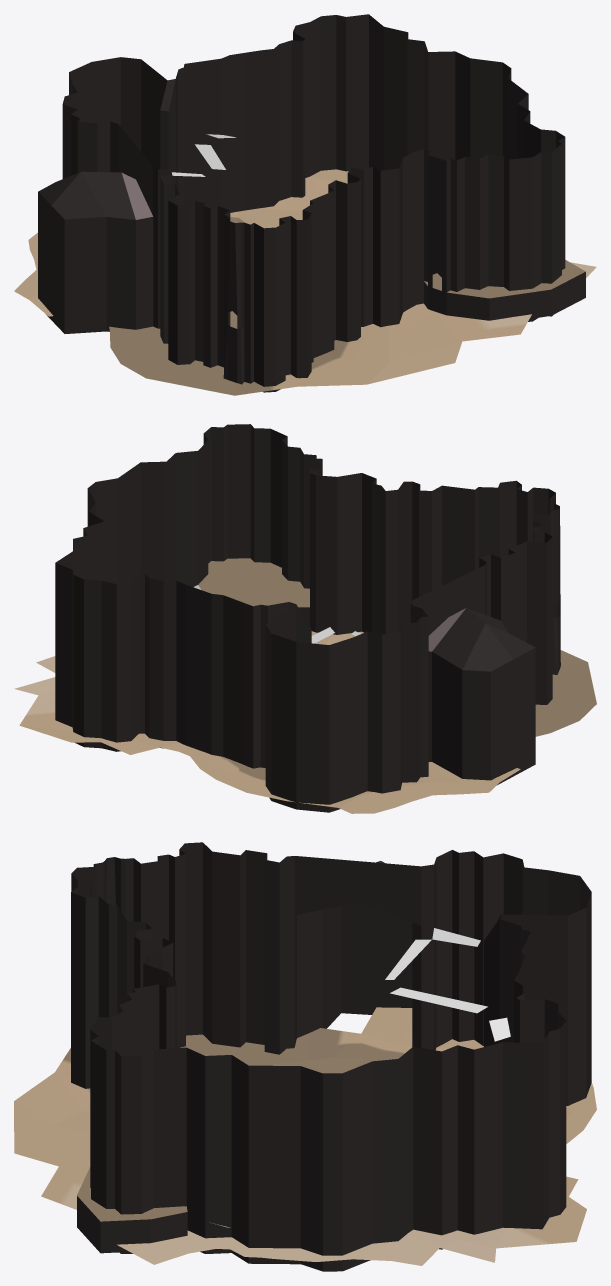
File: tempBridgesB.gltf
3 renders of one model, top to bottom at view 1: azimuth 30°, elevation 25°; view 2: azimuth 150°, elevation 25°; view 3: azimuth 270°, elevation 25°, orthographic. The views are drawn at different scales.
Parts seen in each view (by area): view 1: cliffs, lowerTerrain, pHouseLevel, tempBridgesA; view 2: cliffs, lowerTerrain, pHouseLevel; view 3: cliffs, lowerTerrain, pHouseLevel, tempBridgesA.
Part boxes in pixels (<box>): cliffs: <box>38,14,565,392</box>; lowerTerrain: <box>14,169,596,395</box>; pHouseLevel: <box>424,260,585,320</box>; tempBridgesA: <box>171,134,236,176</box>; cliffs: <box>55,424,560,812</box>; lowerTerrain: <box>14,631,596,813</box>; pHouseLevel: <box>198,558,309,625</box>; cliffs: <box>71,842,591,1271</box>; lowerTerrain: <box>14,1007,596,1265</box>; pHouseLevel: <box>77,1167,187,1253</box>; tempBridgesA: <box>214,928,510,1227</box>.
Size of what is drawn, in the model's own units: 146 by 50 by 133.
Materials: 1 (1 with a texture image).
